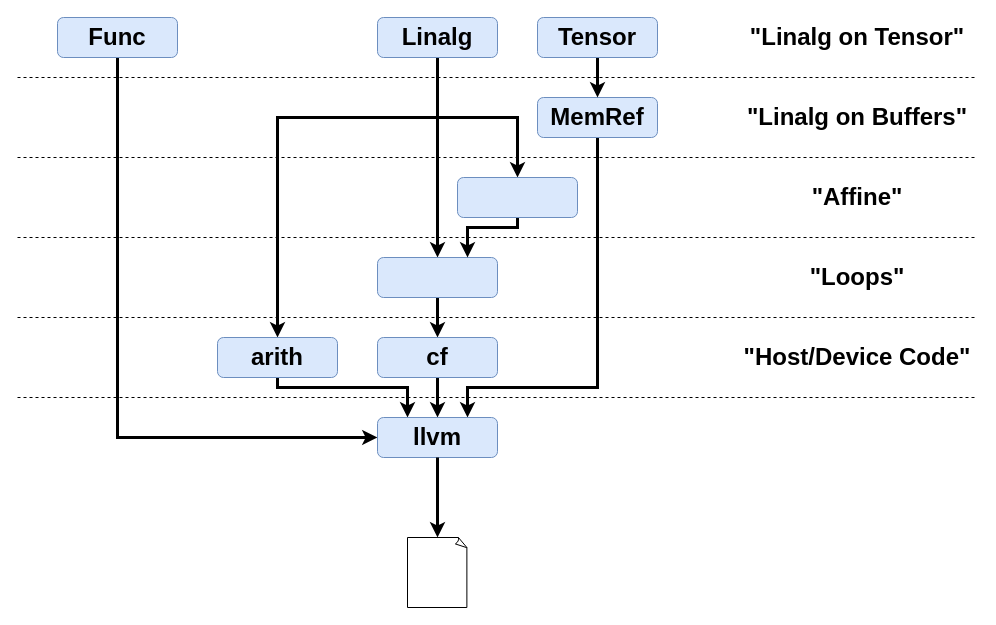
Image size: 996x625. Some labels were removed from this diagram. Each missing label, with the centre of its shape:
"Affine" belongs at point (517, 197).
"LLVM IR" belongs at point (437, 572).
"scf" belongs at point (437, 277).
